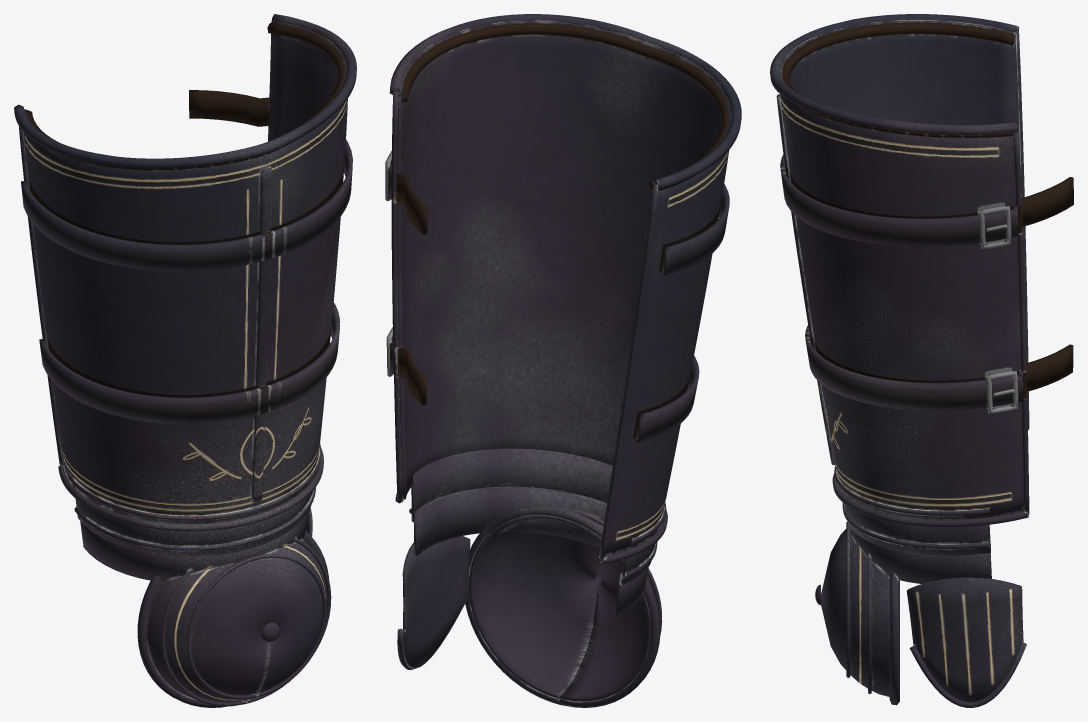
The model's file is SM_ObsidianSovereign_Thighs_L.fbx.
The picture shows the model from 3 angles, left to right: view 1: azimuth 30°, elevation 25°; view 2: azimuth 150°, elevation 25°; view 3: azimuth 270°, elevation 25°; orthographic projection. The views are drawn at different scales.
Parts seen in each view (by area): view 1: SM_ObsidianSovereign_Thighs_L; view 2: SM_ObsidianSovereign_Thighs_L; view 3: SM_ObsidianSovereign_Thighs_L.
Boxes of the visible parts, x1,y1,x2,y2 form: SM_ObsidianSovereign_Thighs_L: (14, 14, 356, 707); SM_ObsidianSovereign_Thighs_L: (385, 14, 741, 707); SM_ObsidianSovereign_Thighs_L: (770, 14, 1073, 707).
Size of the model in its own units: 19.7 by 17.39 by 39.74.
